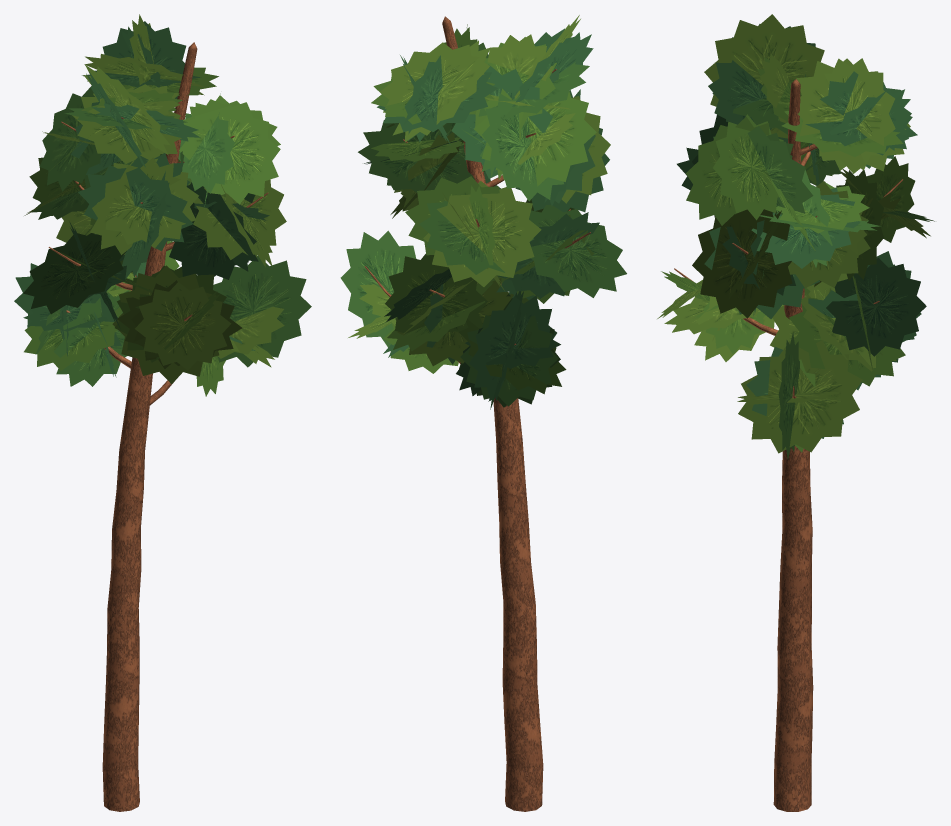
Rendered from hero_pine_b.obj.
3 views of the same model, side by side, from view 1: azimuth 30°, elevation 25°; view 2: azimuth 150°, elevation 25°; view 3: azimuth 270°, elevation 25° (orthographic). The views are drawn at different scales.
Parts seen in each view (by area): view 1: hero_pine_b; view 2: hero_pine_b; view 3: hero_pine_b.
Part boxes in pixels (bbox=[...]): hero_pine_b: bbox=[14, 14, 311, 811]; hero_pine_b: bbox=[340, 15, 626, 811]; hero_pine_b: bbox=[657, 14, 934, 811].
Bounding box in the file's own units: 5.51 × 14.48 × 4.75.
Materials: 2 (2 with a texture image).
